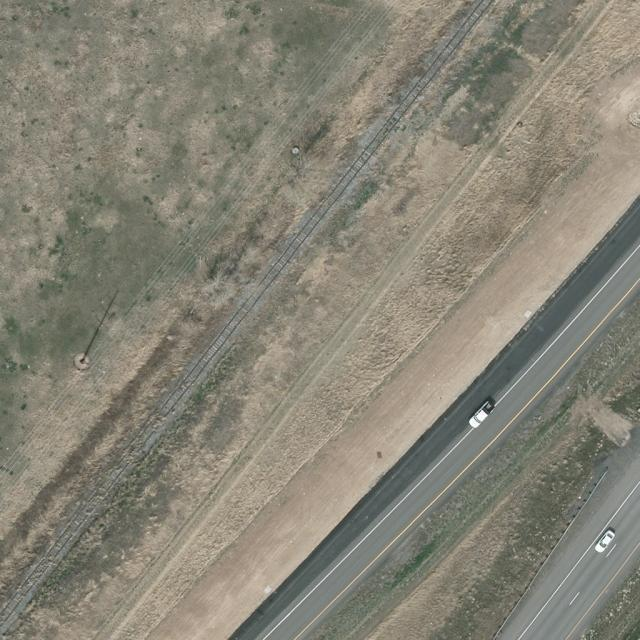vehicle: (466, 402, 496, 428), (593, 528, 616, 554)
